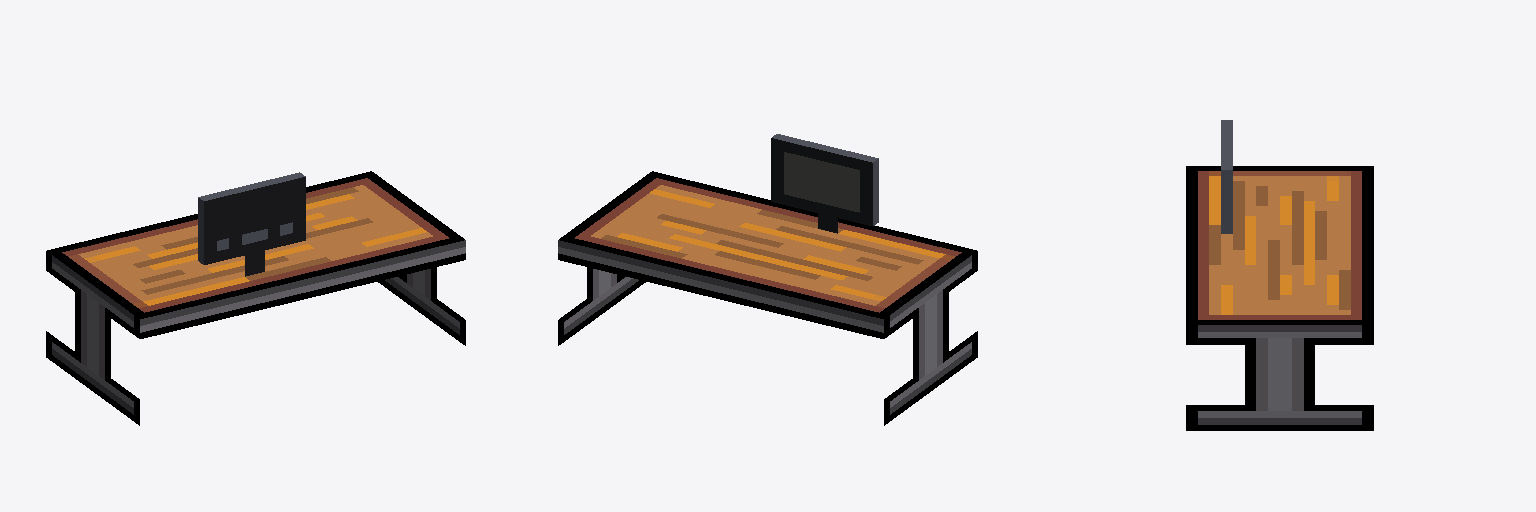
The picture shows the model from 3 angles: view 1: azimuth 30°, elevation 25°; view 2: azimuth 150°, elevation 25°; view 3: azimuth 270°, elevation 25°; orthographic projection.
Parts seen in each view (by area): view 1: Box, monitor; view 2: Box, monitor; view 3: Box, monitor.
Part boxes in pixels (bbox=[...]): Box: bbox=[46, 171, 465, 425]; monitor: bbox=[198, 172, 305, 276]; Box: bbox=[558, 171, 977, 425]; monitor: bbox=[771, 134, 878, 233]; Box: bbox=[1186, 166, 1373, 430]; monitor: bbox=[1221, 120, 1232, 233].
Size of the model in its own units: 32 by 18 by 16.
2 materials, 2 textured.